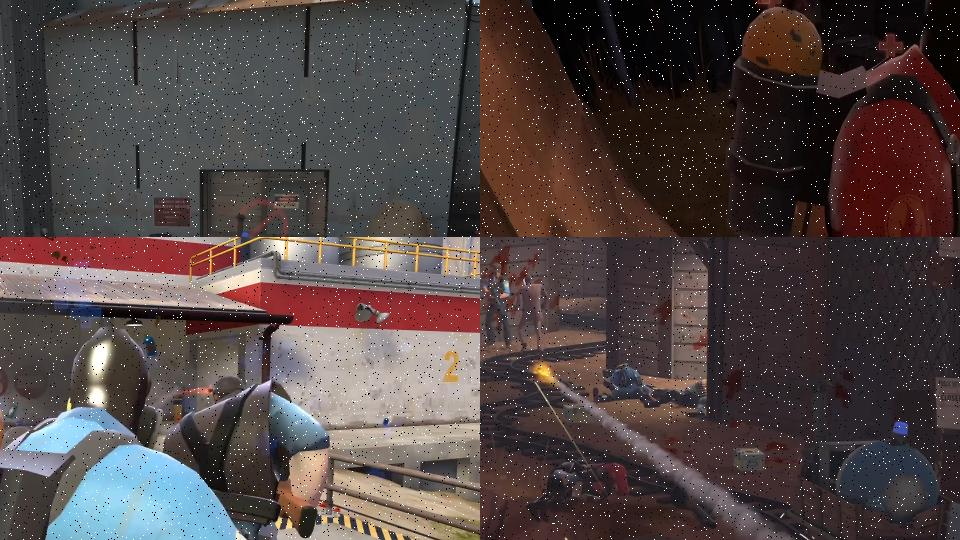Enemy: (0, 319, 345, 540), (712, 0, 960, 237), (162, 372, 332, 540), (480, 261, 514, 355), (513, 274, 551, 356), (591, 360, 659, 405)
